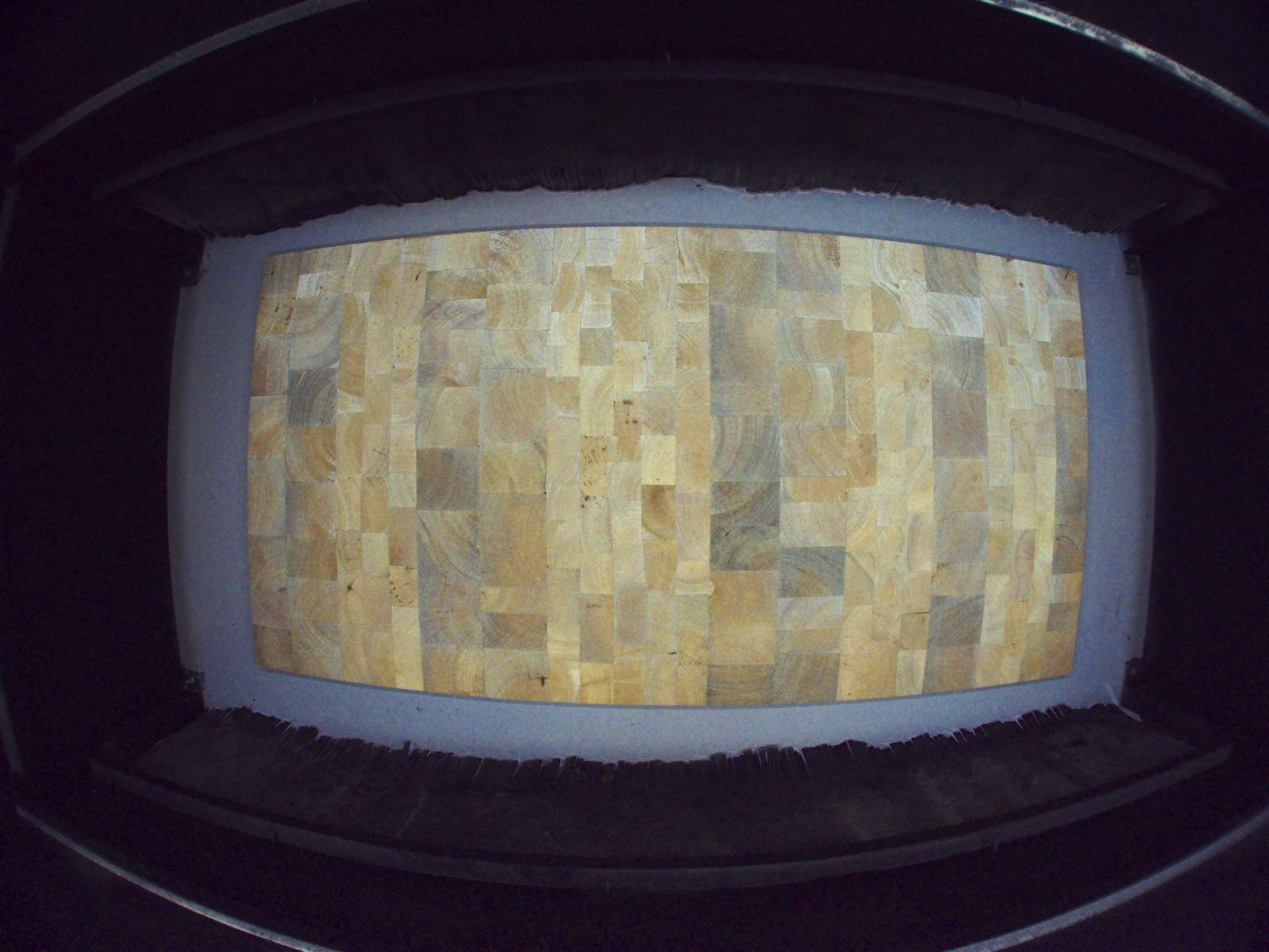sheck_ecuatoriano: (345, 574, 360, 597), (534, 675, 549, 688)
